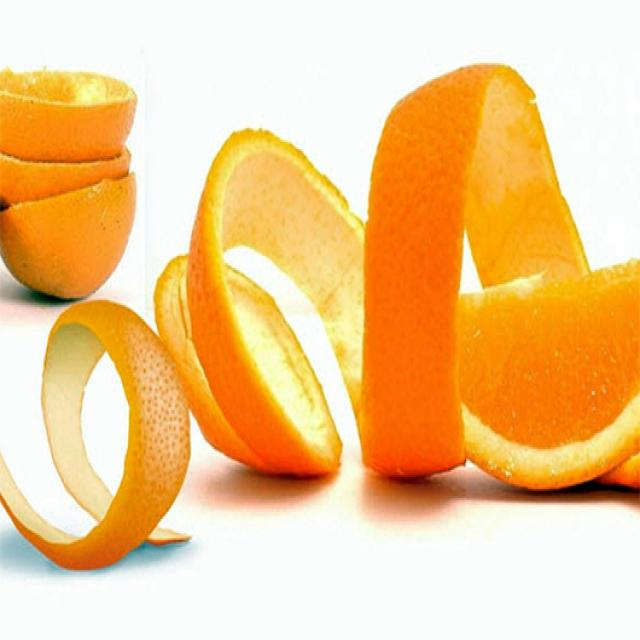Cascara de naranja: (354, 79, 640, 489), (167, 144, 356, 477), (0, 305, 196, 572), (0, 68, 143, 306)
